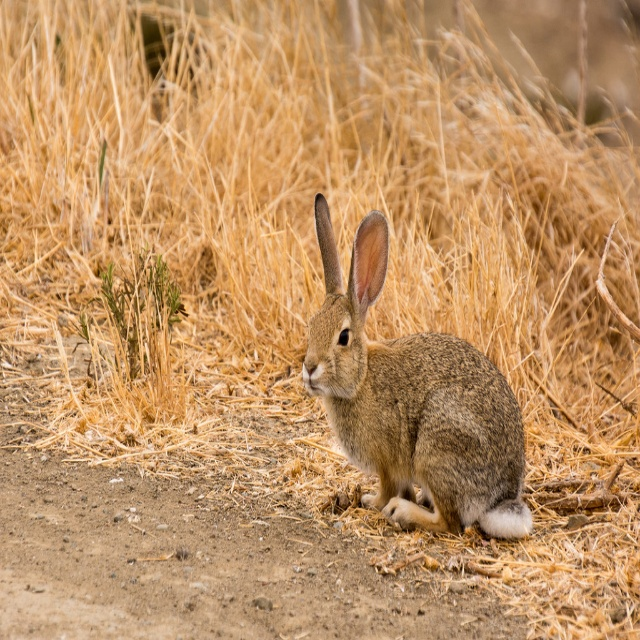Rabbit: (288, 192, 536, 546)
